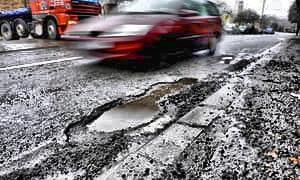pothole: (86, 74, 203, 138), (220, 54, 234, 60)
